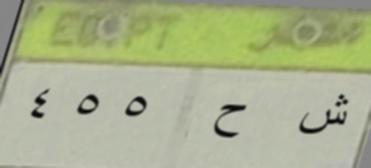4: (28, 83, 52, 124)
5: (118, 92, 154, 124), (70, 88, 101, 124)
7aa: (211, 97, 246, 150)
sheen: (296, 92, 352, 140)
